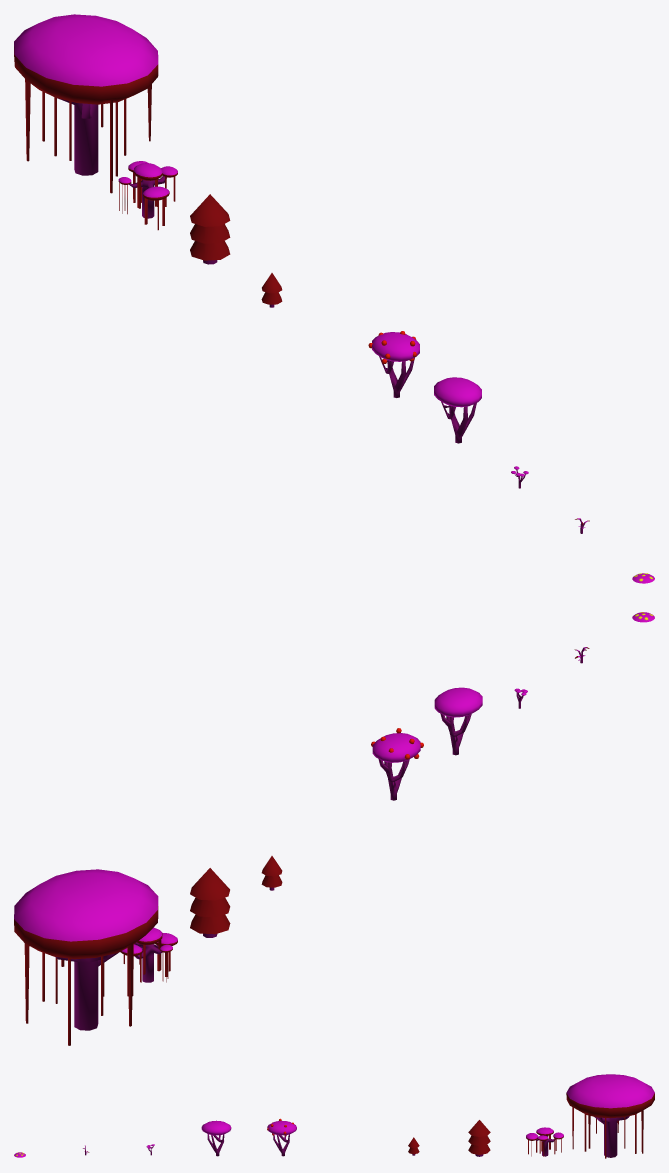
The model's file is avocado_assets_V2.fbx.
The picture shows the model from 3 angles, top to bottom: view 1: azimuth 30°, elevation 25°; view 2: azimuth 150°, elevation 25°; view 3: azimuth 270°, elevation 25°; orthographic projection. The views are drawn at different scales.
Parts seen in each view (by area): view 1: jungle3, jungle2, conifer3, fruit3butwithfruit, fruit3; view 2: jungle3, conifer3, fruit3butwithfruit, fruit3, jungle2; view 3: jungle3, jungle2, conifer3, fruit3butwithfruit, fruit3.
Boxes of the visible parts, box(x1,y1,x2,y2) form: jungle3: box(14, 14, 158, 193); jungle2: box(118, 161, 177, 230); conifer3: box(190, 194, 230, 264); fruit3butwithfruit: box(368, 331, 419, 397); fruit3: box(434, 377, 481, 443); jungle3: box(14, 869, 158, 1045); conifer3: box(190, 868, 230, 937); fruit3butwithfruit: box(371, 728, 423, 800); fruit3: box(434, 687, 482, 755); jungle2: box(120, 927, 177, 982); jungle3: box(566, 1074, 654, 1158); jungle2: box(526, 1127, 563, 1156); conifer3: box(468, 1120, 490, 1156); fruit3butwithfruit: box(267, 1118, 296, 1156); fruit3: box(201, 1120, 231, 1156).
Bounding box in the file's own units: 1126 × 1243 × 9767.
